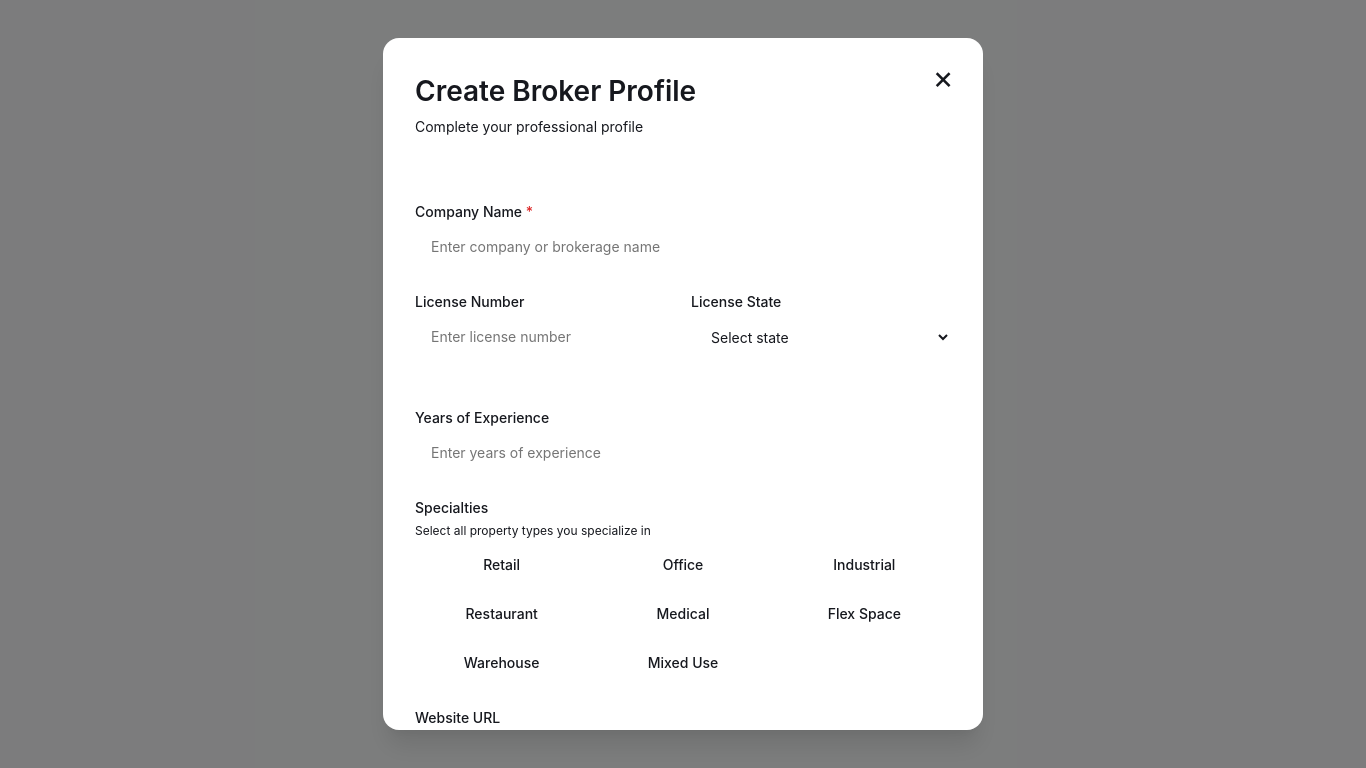
Test: BrokerProfileModal › Create Mode › disables form during submission
Type "ABC Realty" into the field labelled "Company Name *" at (683, 247), box x1=415 y1=226 x2=951 y2=267
(page scrolled)
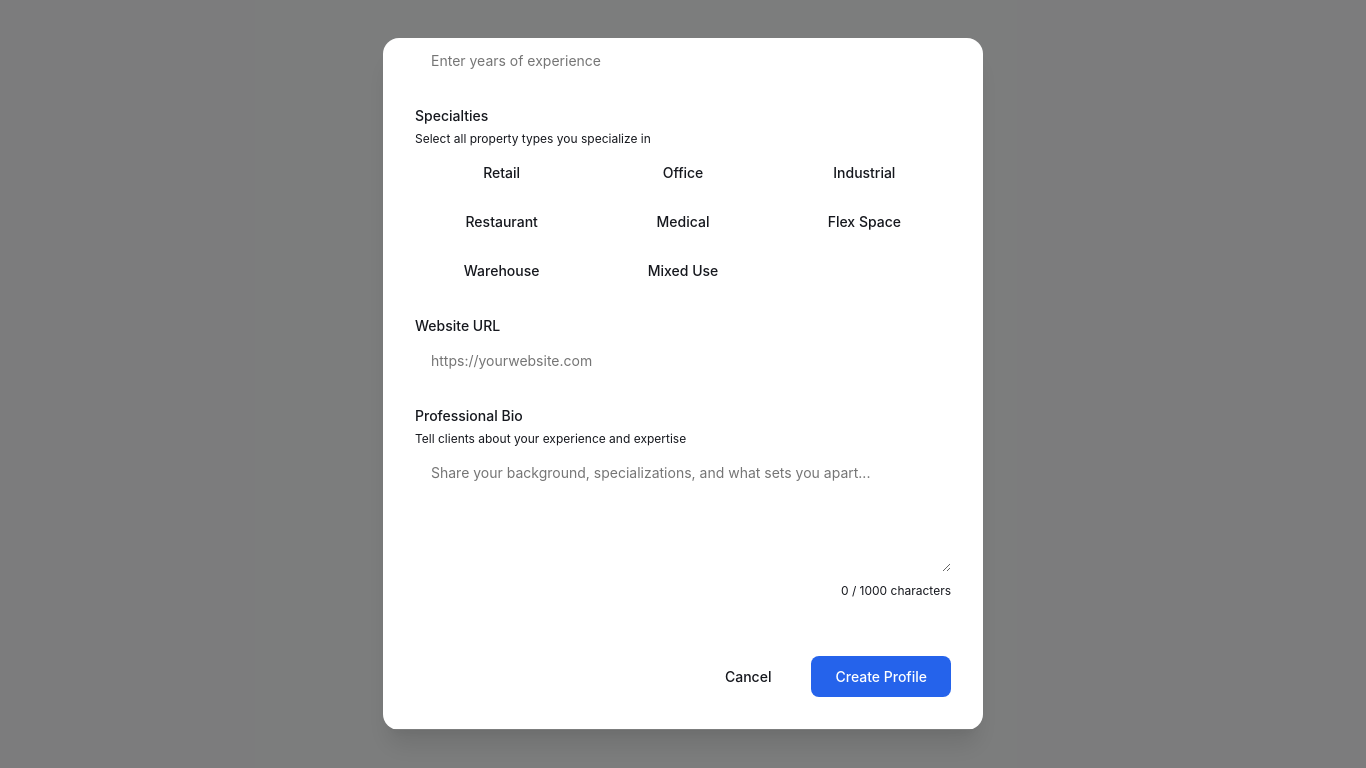
Click the button "Create Profile" at (881, 677), box x1=812 y1=656 x2=951 y2=697
(page scrolled)
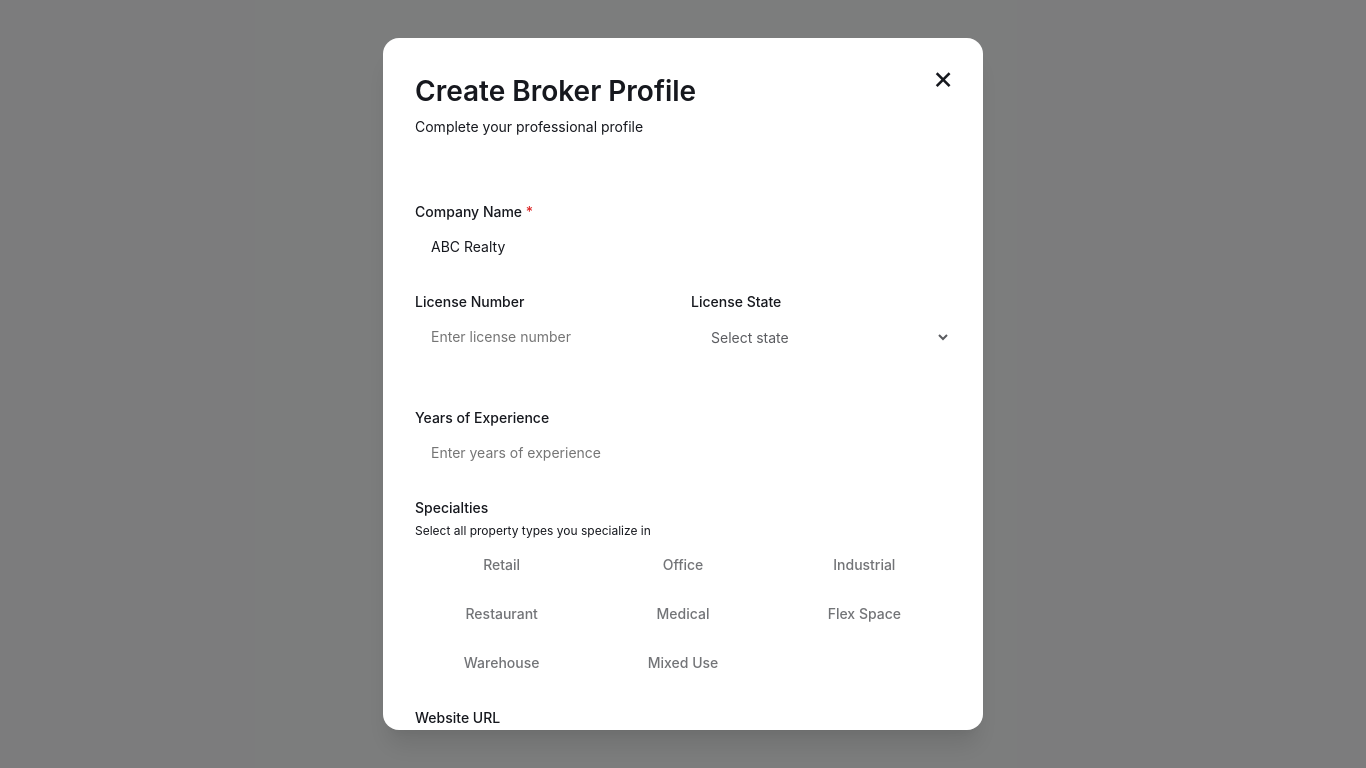
Result: the field labelled "Company Name *" is disabled at x1=415 y1=226 x2=951 y2=267
